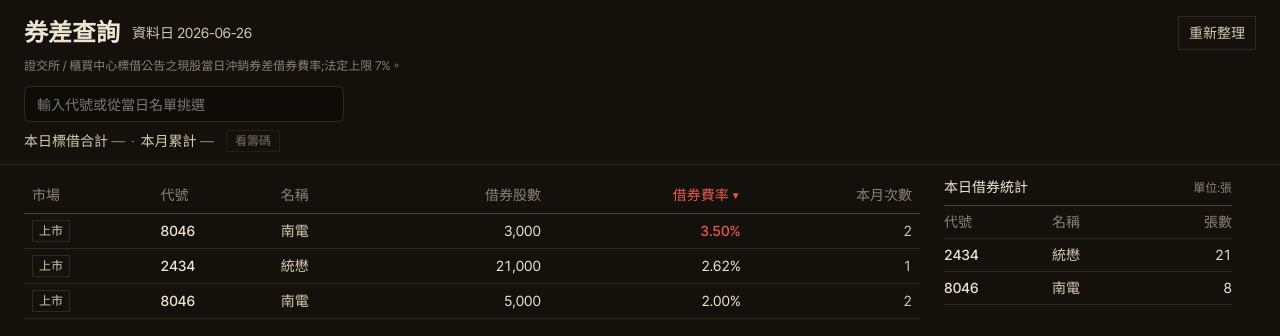
Scenario: BorrowFeePage 單檔篩選 › 選定標的後只顯示該檔當日全部筆數(同股多筆全列)
The width and height of the screenshot is (1280, 336).
Expected: the number of rows with test id "fee-row" is 3, [24,214,920,248]; [24,248,920,284]; [24,284,920,318]
Type "8046" into the field with test id "borrow-fee-stock-filter" at coordinates (184, 104), box [24,86,344,122]
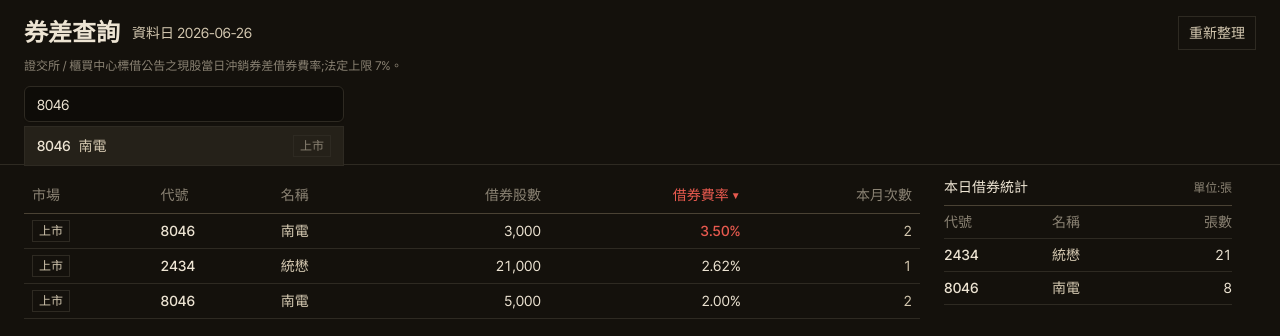
Press the mouse on the option "8046 南電 上市" at coordinates (54, 146), box [25,127,343,165]
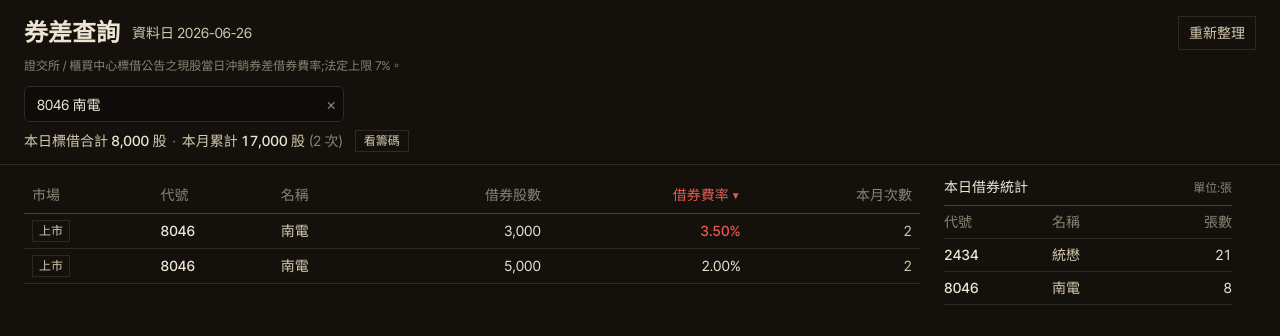
Expected: the number of rows with test id "fee-row" is 2, [24,214,920,248]; [24,248,920,284]
